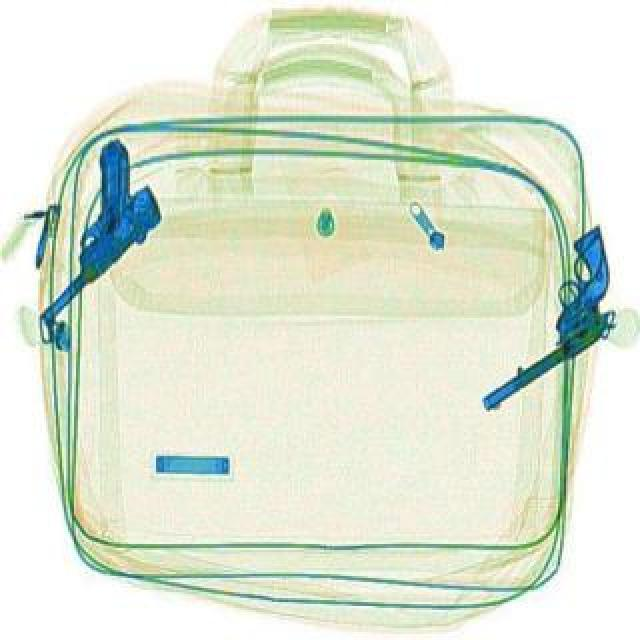gun: (434, 236, 638, 406), (0, 132, 186, 302)
